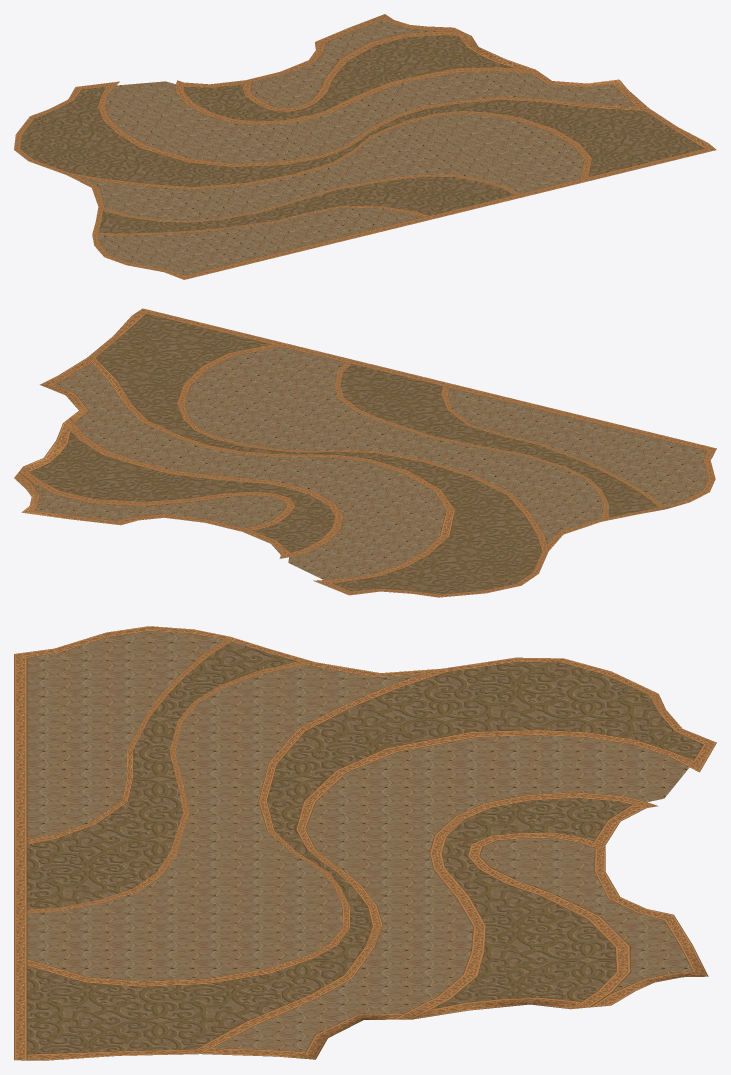
File: EKH_THRONE_PS_TH_MAINFLOOR84857__GX.fbx
3 renders of one model, top to bottom at view 1: azimuth 30°, elevation 25°; view 2: azimuth 150°, elevation 25°; view 3: azimuth 270°, elevation 25°, orthographic. The views are drawn at different scales.
Visible parts, largest first — view 1: EKH_THRONE_PS_TH_MAINFLOOR84857__GX; view 2: EKH_THRONE_PS_TH_MAINFLOOR84857__GX; view 3: EKH_THRONE_PS_TH_MAINFLOOR84857__GX.
Part boxes in pixels (x1=…): EKH_THRONE_PS_TH_MAINFLOOR84857__GX: x1=14, y1=14, x2=716, y2=279; EKH_THRONE_PS_TH_MAINFLOOR84857__GX: x1=14, y1=308, x2=716, y2=597; EKH_THRONE_PS_TH_MAINFLOOR84857__GX: x1=14, y1=626, x2=716, y2=1060.
Bounding box in the file's own units: 216248 × 0.0522 × 147804.
3 materials, 3 textured.
